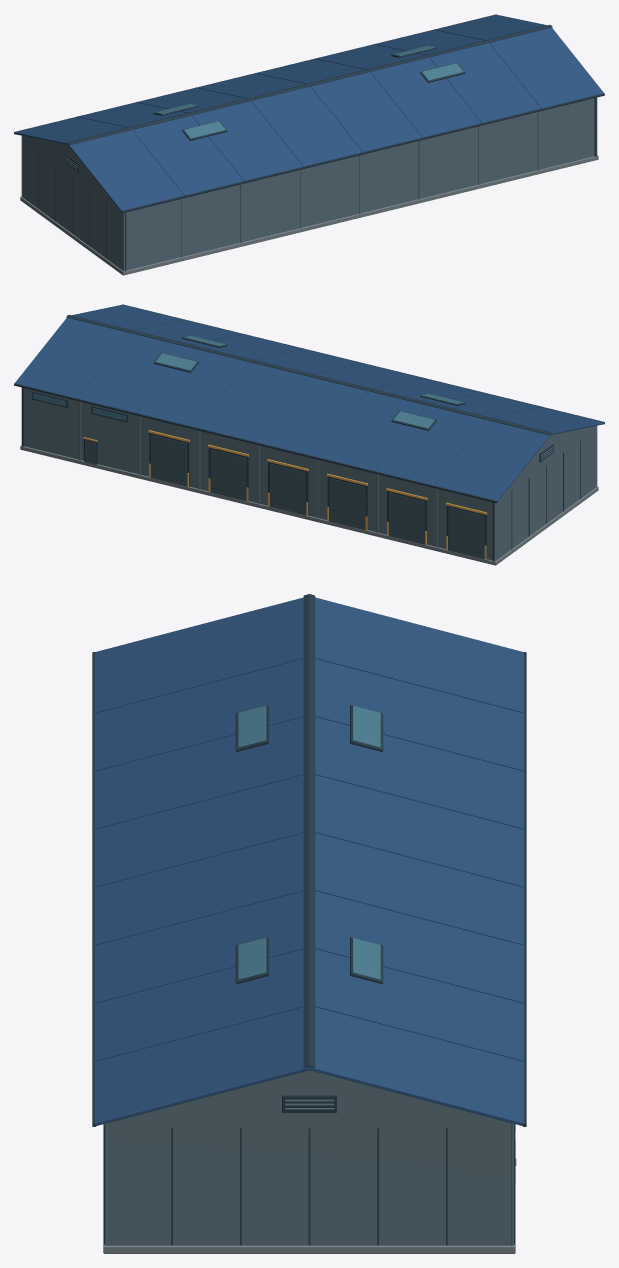
File: d09_warehouses_01.glb
3 renders of one model, top to bottom at view 1: azimuth 30°, elevation 25°; view 2: azimuth 150°, elevation 25°; view 3: azimuth 270°, elevation 25°, orthographic. The views are drawn at different scales.
Visible parts, largest first — view 1: D09Warehouses01_Mesh; view 2: D09Warehouses01_Mesh; view 3: D09Warehouses01_Mesh.
Part boxes in pixels (x1=…): D09Warehouses01_Mesh: x1=14, y1=14, x2=604, y2=275; D09Warehouses01_Mesh: x1=14, y1=304, x2=604, y2=565; D09Warehouses01_Mesh: x1=92, y1=594, x2=526, y2=1253.
Bounding box in the file's own units: 48.76 × 9.27 × 18.98.
